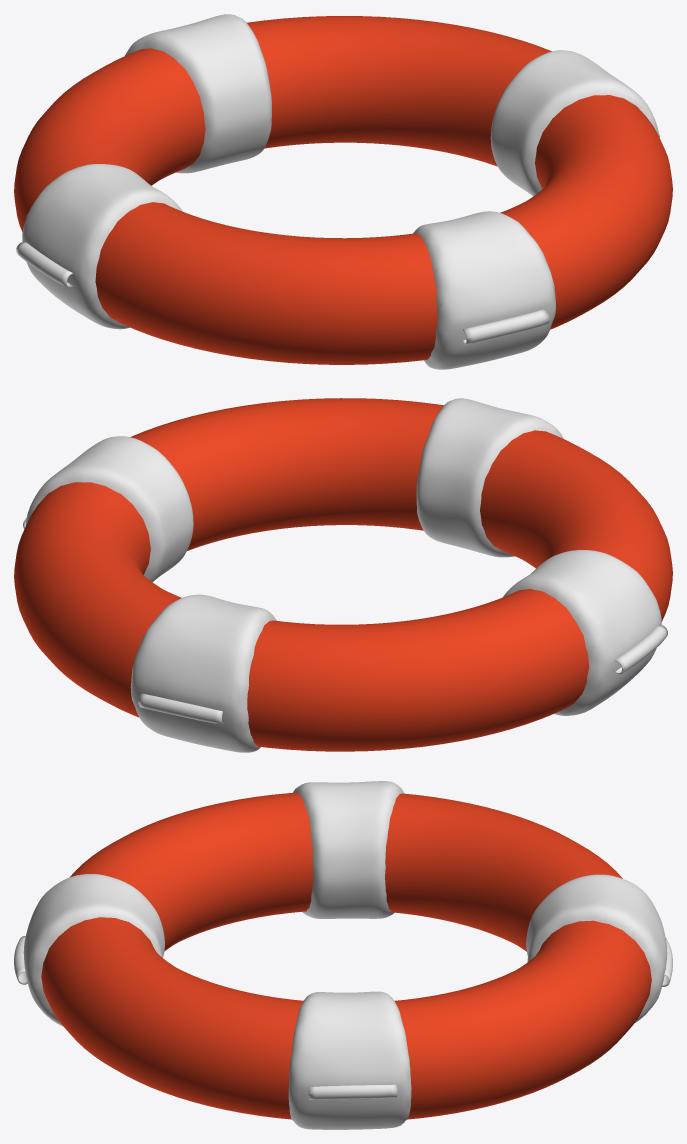
File: lifesaver.glb
The picture shows the model from 3 angles, top to bottom: view 1: azimuth 30°, elevation 25°; view 2: azimuth 150°, elevation 25°; view 3: azimuth 270°, elevation 25°; orthographic projection. The views are drawn at different scales.
Parts seen in each view (by area): view 1: Torus.002; view 2: Torus.002; view 3: Torus.002.
Boxes of the visible parts, <box> form: Torus.002: <box>14,14,672,369</box>; Torus.002: <box>14,398,672,752</box>; Torus.002: <box>14,781,672,1129</box>.
Bounding box in the file's own units: 0.7901 × 0.1651 × 0.7928.
